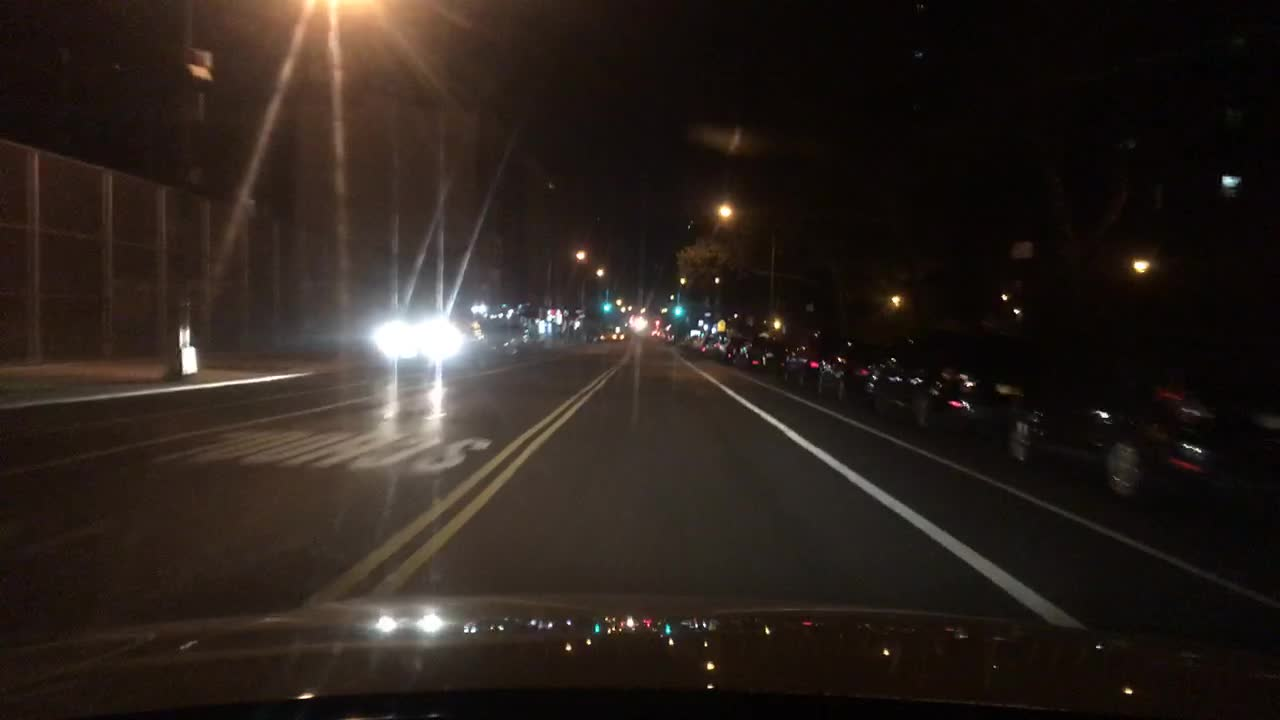car: (1006, 332, 1280, 513), (868, 335, 1034, 430), (374, 306, 483, 375), (816, 341, 894, 404), (472, 316, 512, 362), (776, 338, 816, 382), (739, 338, 774, 372), (497, 316, 527, 352), (676, 332, 705, 352), (563, 319, 587, 341), (721, 339, 742, 362), (705, 336, 724, 359), (607, 326, 626, 344), (586, 329, 604, 346), (662, 329, 678, 342), (650, 322, 659, 336)
traffic light: (672, 298, 682, 321), (601, 292, 610, 313)
traffic sign: (715, 318, 725, 332)
